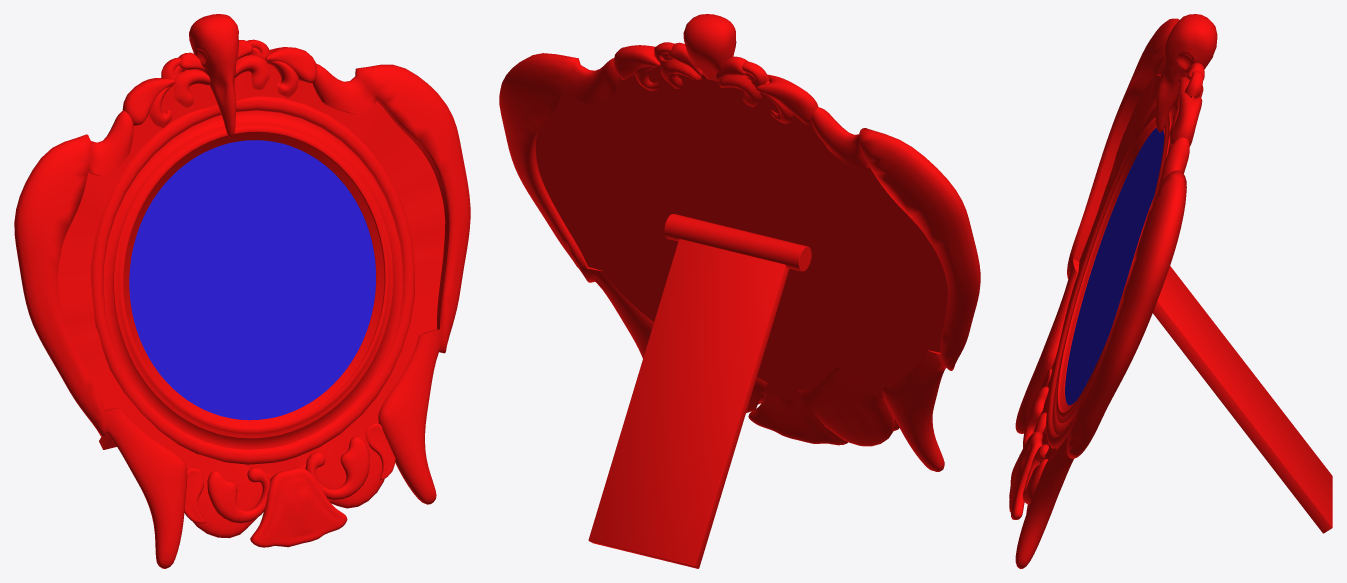
Rendered from Painting_Crow.fbx.
The picture shows the model from 3 angles, left to right: view 1: azimuth 30°, elevation 25°; view 2: azimuth 150°, elevation 25°; view 3: azimuth 270°, elevation 25°; orthographic projection. The views are drawn at different scales.
Visible parts, largest first — view 1: Frame, S5, S4, S3, S2, S1; view 2: Frame, Frame_Holder; view 3: Frame, Frame_Holder, S4, S5, S3, S2, S1.
Part boxes in pixels (bbox=[...]): Frame: bbox=[14, 14, 470, 568]; S5: bbox=[129, 140, 375, 420]; S4: bbox=[151, 164, 352, 392]; S3: bbox=[176, 193, 327, 363]; S2: bbox=[201, 221, 302, 335]; S1: bbox=[227, 250, 277, 306]; Frame: bbox=[499, 14, 980, 471]; Frame_Holder: bbox=[588, 214, 811, 568]; Frame: bbox=[1009, 14, 1217, 568]; Frame_Holder: bbox=[1153, 266, 1332, 533]; S4: bbox=[1075, 150, 1156, 377]; S5: bbox=[1065, 128, 1164, 405]; S3: bbox=[1085, 179, 1146, 349]; S2: bbox=[1095, 207, 1136, 320]; S1: bbox=[1106, 236, 1126, 292].
Bounding box in the file's own units: 48.65 × 48.81 × 29.2.
